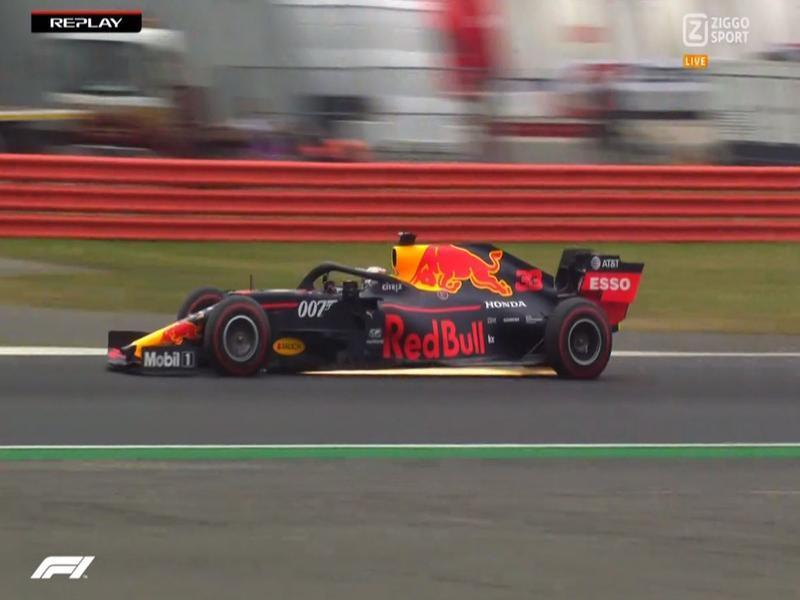f1: (107, 191, 670, 392)
